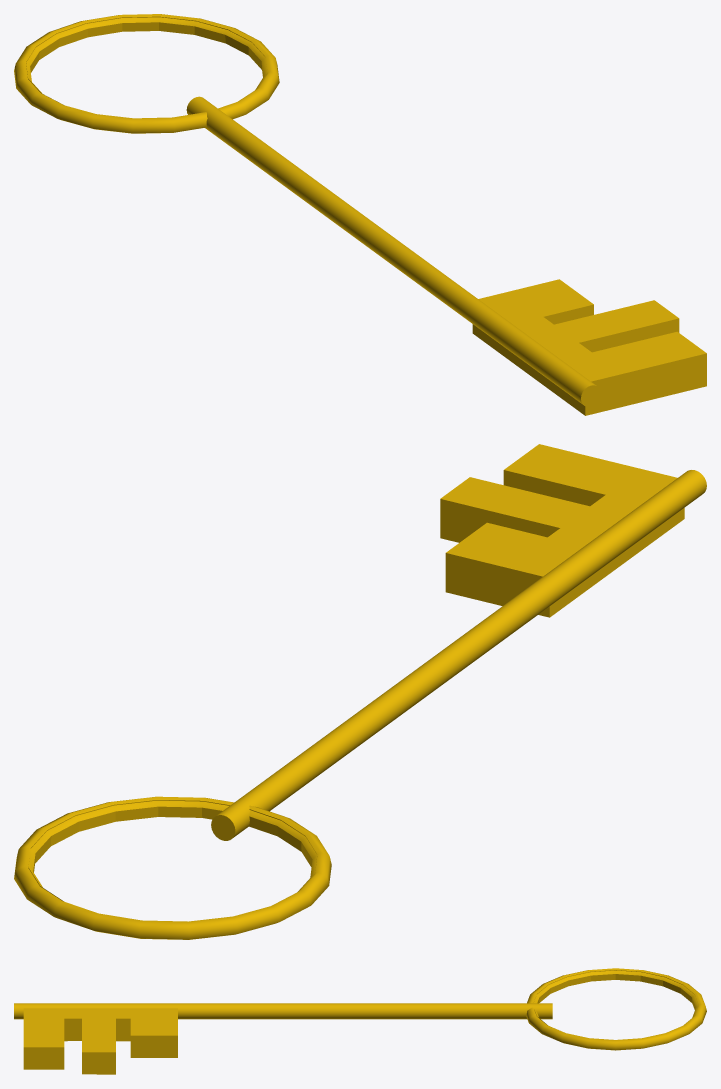
The model's file is quick_key.fbx.
The picture shows the model from 3 angles, top to bottom: view 1: azimuth 30°, elevation 25°; view 2: azimuth 150°, elevation 25°; view 3: azimuth 270°, elevation 25°; orthographic projection. The views are drawn at different scales.
Parts seen in each view (by area): view 1: polySurface1; view 2: polySurface1; view 3: polySurface1.
Boxes of the visible parts, <box> form: polySurface1: <box>14,14,706,415</box>; polySurface1: <box>14,444,706,939</box>; polySurface1: <box>14,968,706,1074</box>.
Size of the model in its own units: 9.07 by 1.21 by 30.9.
Materials: 1 (1 with a texture image).
